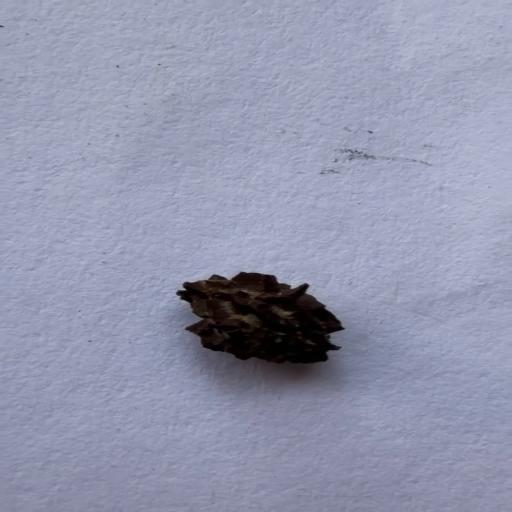papaya_seed: (164, 268, 350, 364)
